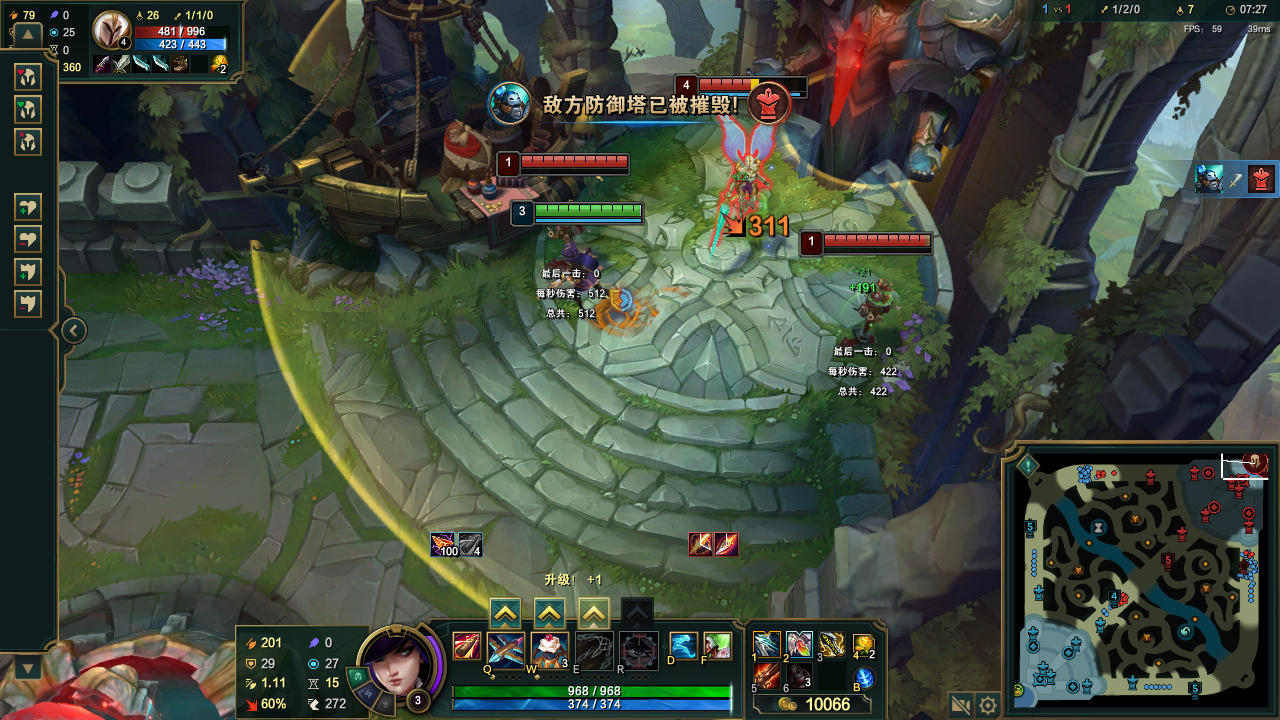DFYX: (823, 232, 932, 249), (519, 155, 627, 167), (700, 76, 761, 89)
